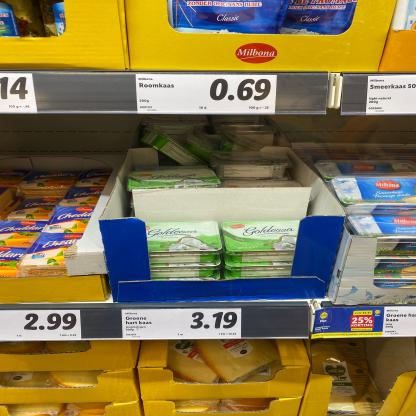prtg: (136, 75, 278, 115), (122, 310, 242, 341), (1, 311, 83, 342), (312, 308, 385, 340), (367, 75, 415, 116), (1, 74, 39, 115), (383, 307, 415, 338)
